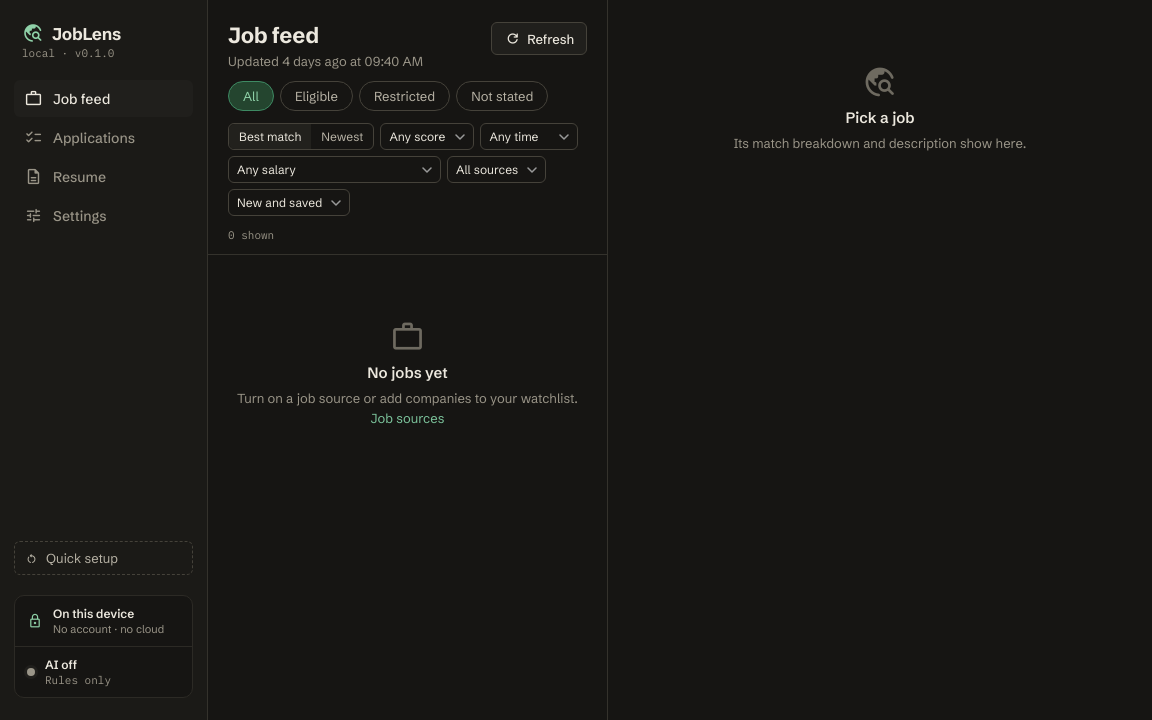
Test: Application tracker › moves applications between board columns
Step 1. Click the button "Applications" → (104,138), box [14, 119, 193, 156]
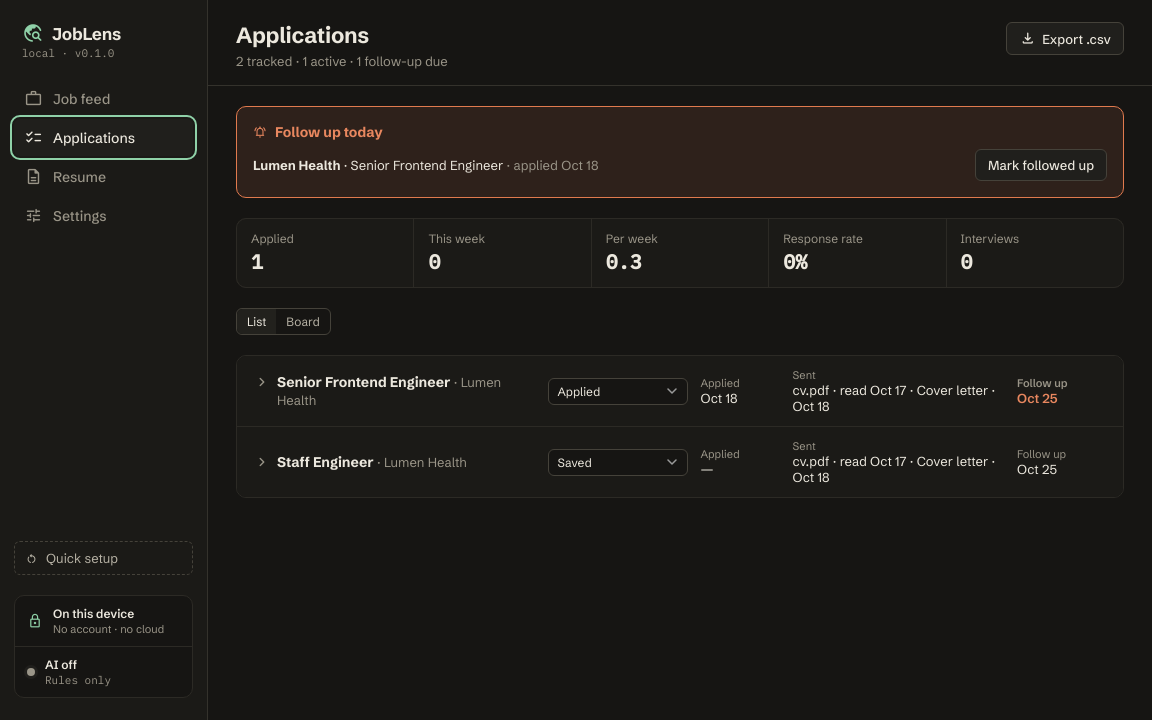
Step 2. Click the button "Board" → (303,322), box [276, 309, 330, 334]
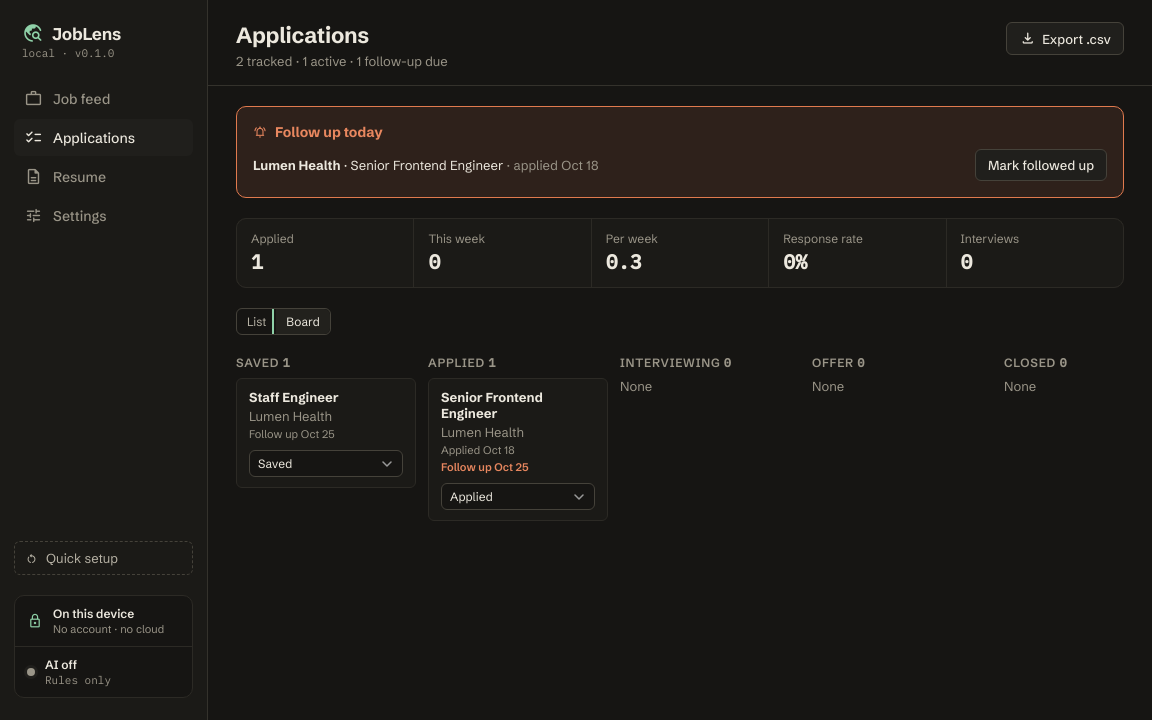
Step 3. Select "Interviewing" in the dropdown named "Move Senior Frontend Engineer at Lumen Health" → (518,496), box [441, 483, 595, 510]
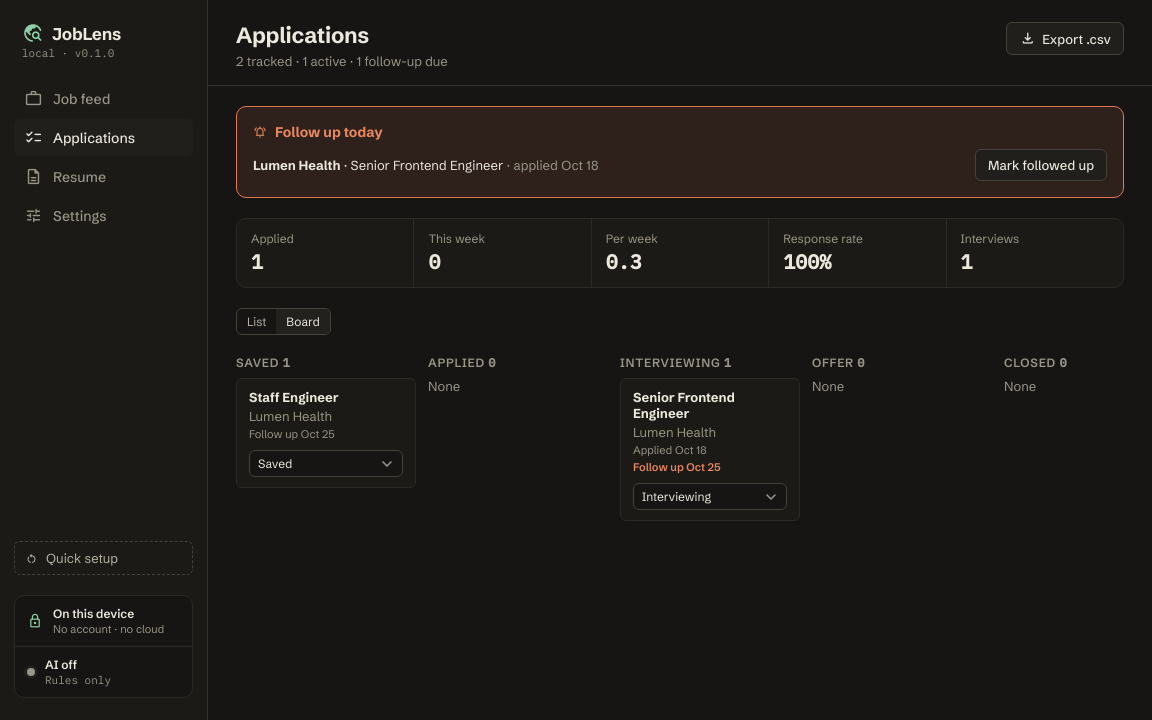
Now the element named "Saved (1)" is shown, box [236, 355, 416, 521]
Now the element named "Interviewing (1)" is shown, box [620, 355, 800, 521]
